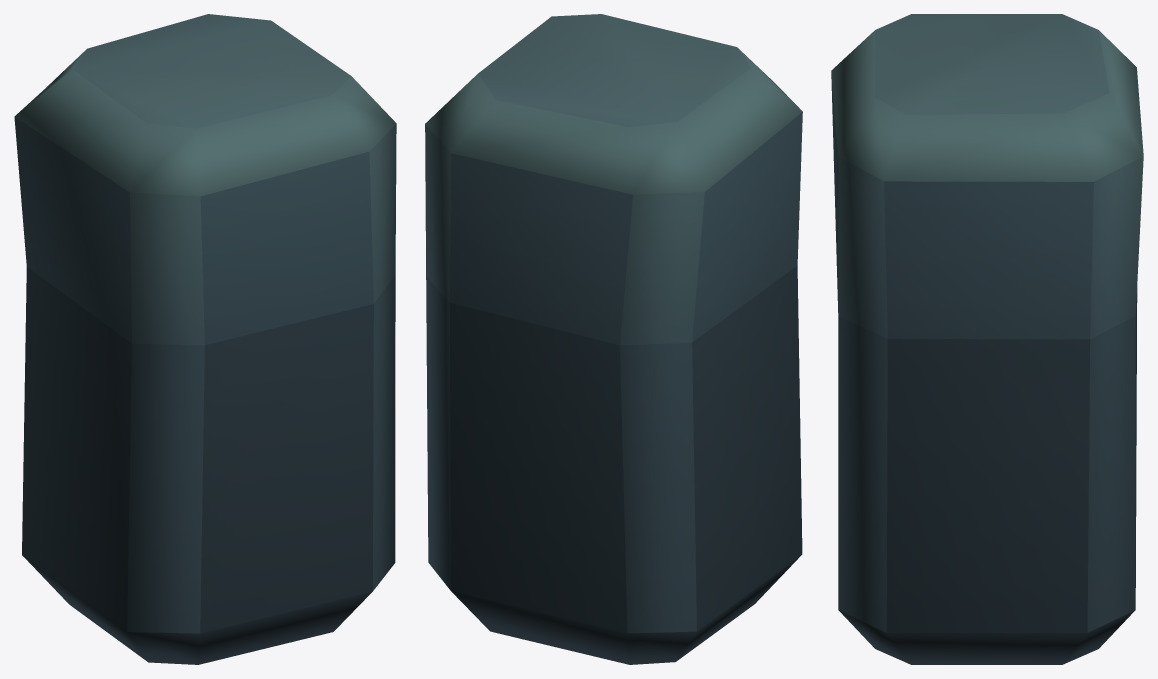
Rendered from archway_small_frame_part_small1.fbx.
3 renders of one model, left to right at view 1: azimuth 30°, elevation 25°; view 2: azimuth 150°, elevation 25°; view 3: azimuth 270°, elevation 25°, orthographic. The views are drawn at different scales.
Parts seen in each view (by area): view 1: archway_small_frame_part_small1; view 2: archway_small_frame_part_small1; view 3: archway_small_frame_part_small1.
Part boxes in pixels (x1,y1,x2,y2): archway_small_frame_part_small1: (14, 14, 396, 664); archway_small_frame_part_small1: (425, 14, 802, 664); archway_small_frame_part_small1: (831, 14, 1143, 664).
Size of the model in its own units: 63.2 by 116 by 59.53.
